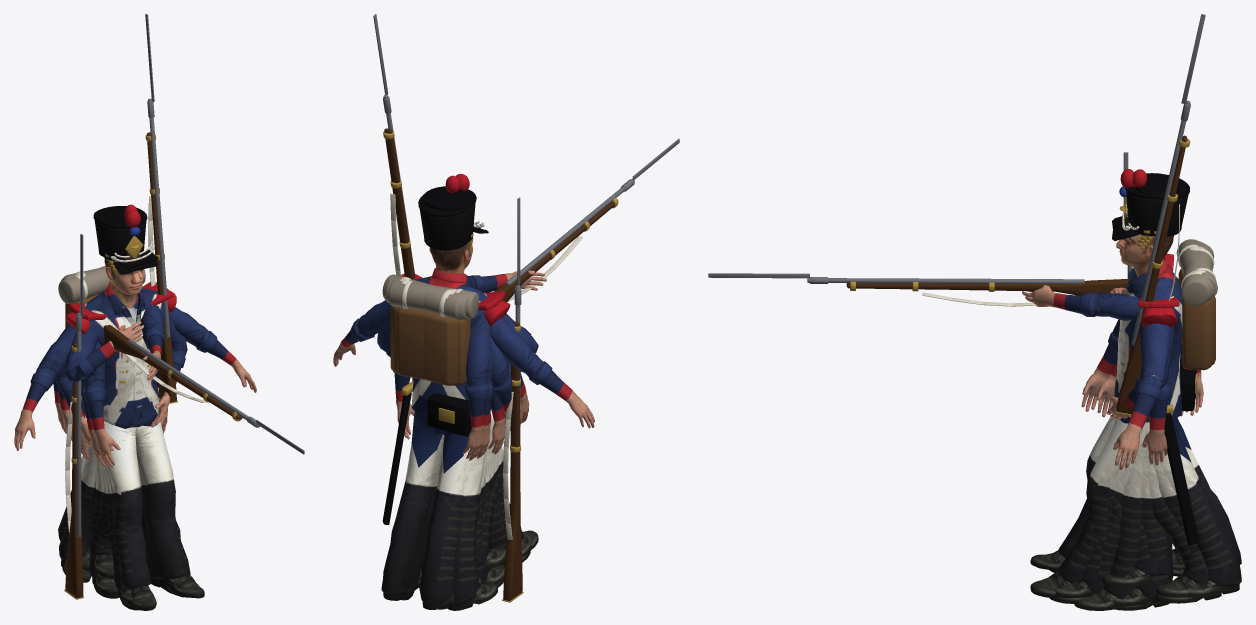
The model's file is grenadier.glb.
The picture shows the model from 3 angles, left to right: view 1: azimuth 30°, elevation 25°; view 2: azimuth 150°, elevation 25°; view 3: azimuth 270°, elevation 25°; orthographic projection. The views are drawn at different scales.
Parts seen in each view (by area): view 1: present, march2, march6, rest, order, march5, march1, shouldered, march4, march0, march3, march7; view 2: present, march6, march2, rest, order, shouldered, march5, march4, march7, march1, march0; view 3: present, march6, march2, rest, march1, shouldered, march5, march7, order, march0, march3, march4.
Part boxes in pixels (x1,y1,x2,y2): present: [58, 204, 304, 588]; march2: [58, 206, 204, 598]; march6: [53, 206, 187, 610]; rest: [14, 208, 256, 598]; order: [56, 234, 167, 599]; march5: [55, 210, 182, 605]; march1: [62, 207, 181, 575]; shouldered: [81, 14, 182, 459]; march4: [89, 396, 159, 578]; march0: [91, 406, 163, 595]; march3: [82, 395, 188, 597]; march7: [101, 257, 158, 610]; present: [388, 138, 679, 610]; march6: [377, 174, 538, 600]; march2: [377, 173, 529, 609]; rest: [333, 174, 594, 587]; order: [393, 197, 523, 602]; shouldered: [373, 14, 505, 454]; march5: [377, 174, 531, 600]; march4: [437, 420, 505, 568]; march7: [407, 416, 530, 589]; march1: [377, 174, 522, 609]; march0: [482, 442, 504, 584]; present: [708, 169, 1217, 610]; march6: [1030, 169, 1241, 597]; march2: [1030, 170, 1241, 597]; rest: [1113, 170, 1211, 610]; march1: [1054, 170, 1213, 598]; shouldered: [1113, 14, 1205, 418]; march5: [1086, 169, 1221, 603]; march7: [1049, 392, 1209, 597]; order: [1114, 152, 1172, 610]; march0: [1097, 419, 1170, 586]; march3: [1049, 390, 1184, 603]; march4: [1107, 418, 1158, 606].
Bounding box in the file's own units: 1.35 × 2.88 × 2.31.
16 materials, 3 textured.
